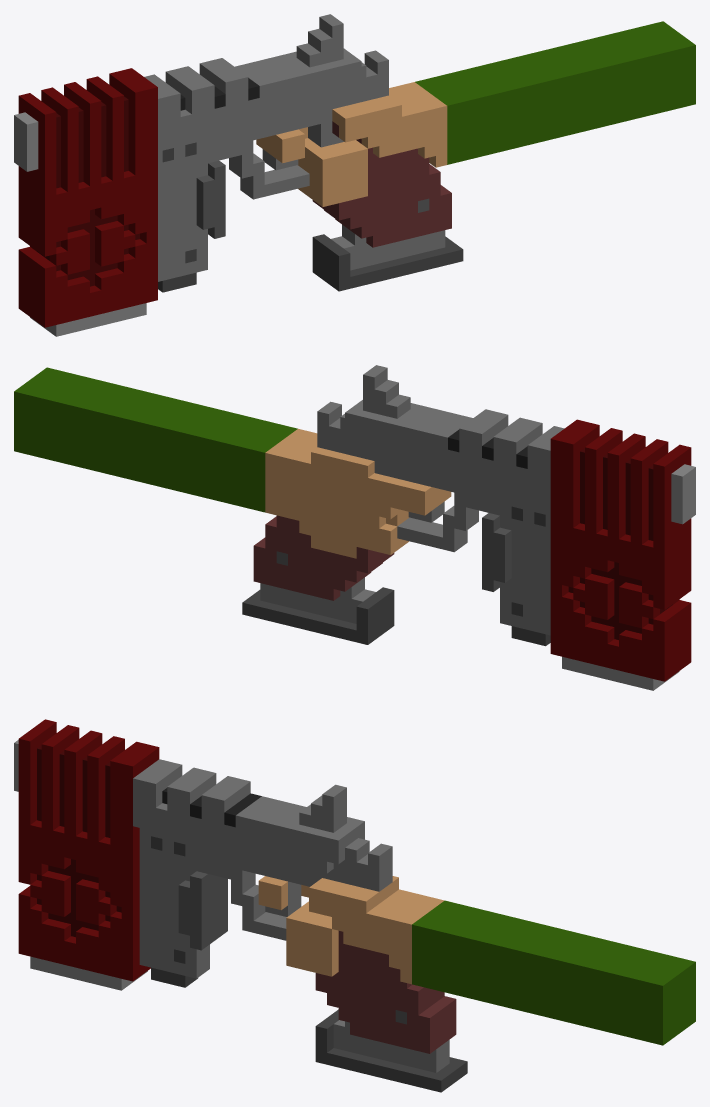
The model's file is pistol.obj.
The picture shows the model from 3 angles, top to bottom: view 1: azimuth 30°, elevation 25°; view 2: azimuth 150°, elevation 25°; view 3: azimuth 330°, elevation 25°; orthographic projection.
Bounding box in the file's own units: 58 × 22 × 5.
1 material, 1 textured.
